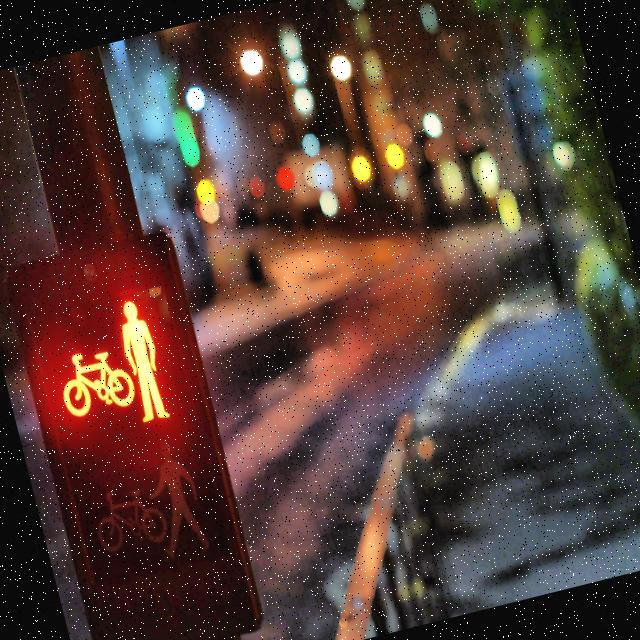red_light: (110, 294, 175, 428)
